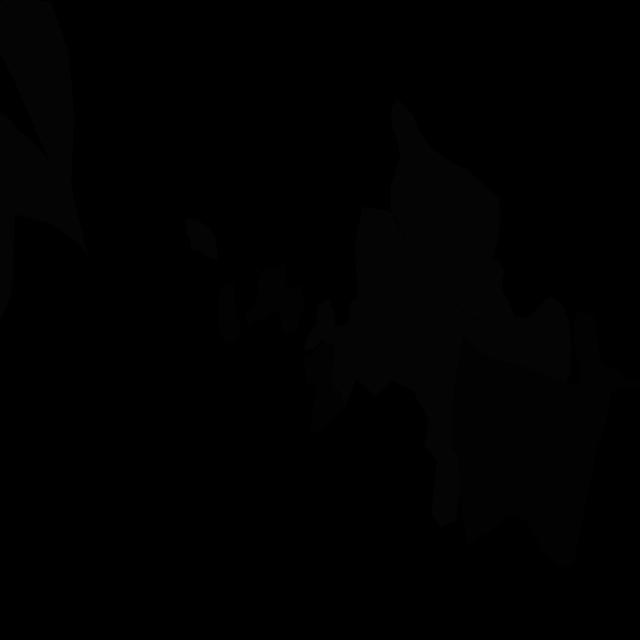cardboard: (452, 337, 610, 568), (574, 312, 640, 402), (244, 263, 304, 335), (304, 342, 344, 435), (217, 281, 240, 343)
metal: (460, 362, 503, 445)
soft_plastic: (304, 207, 571, 528), (390, 100, 500, 320), (184, 218, 218, 259)
